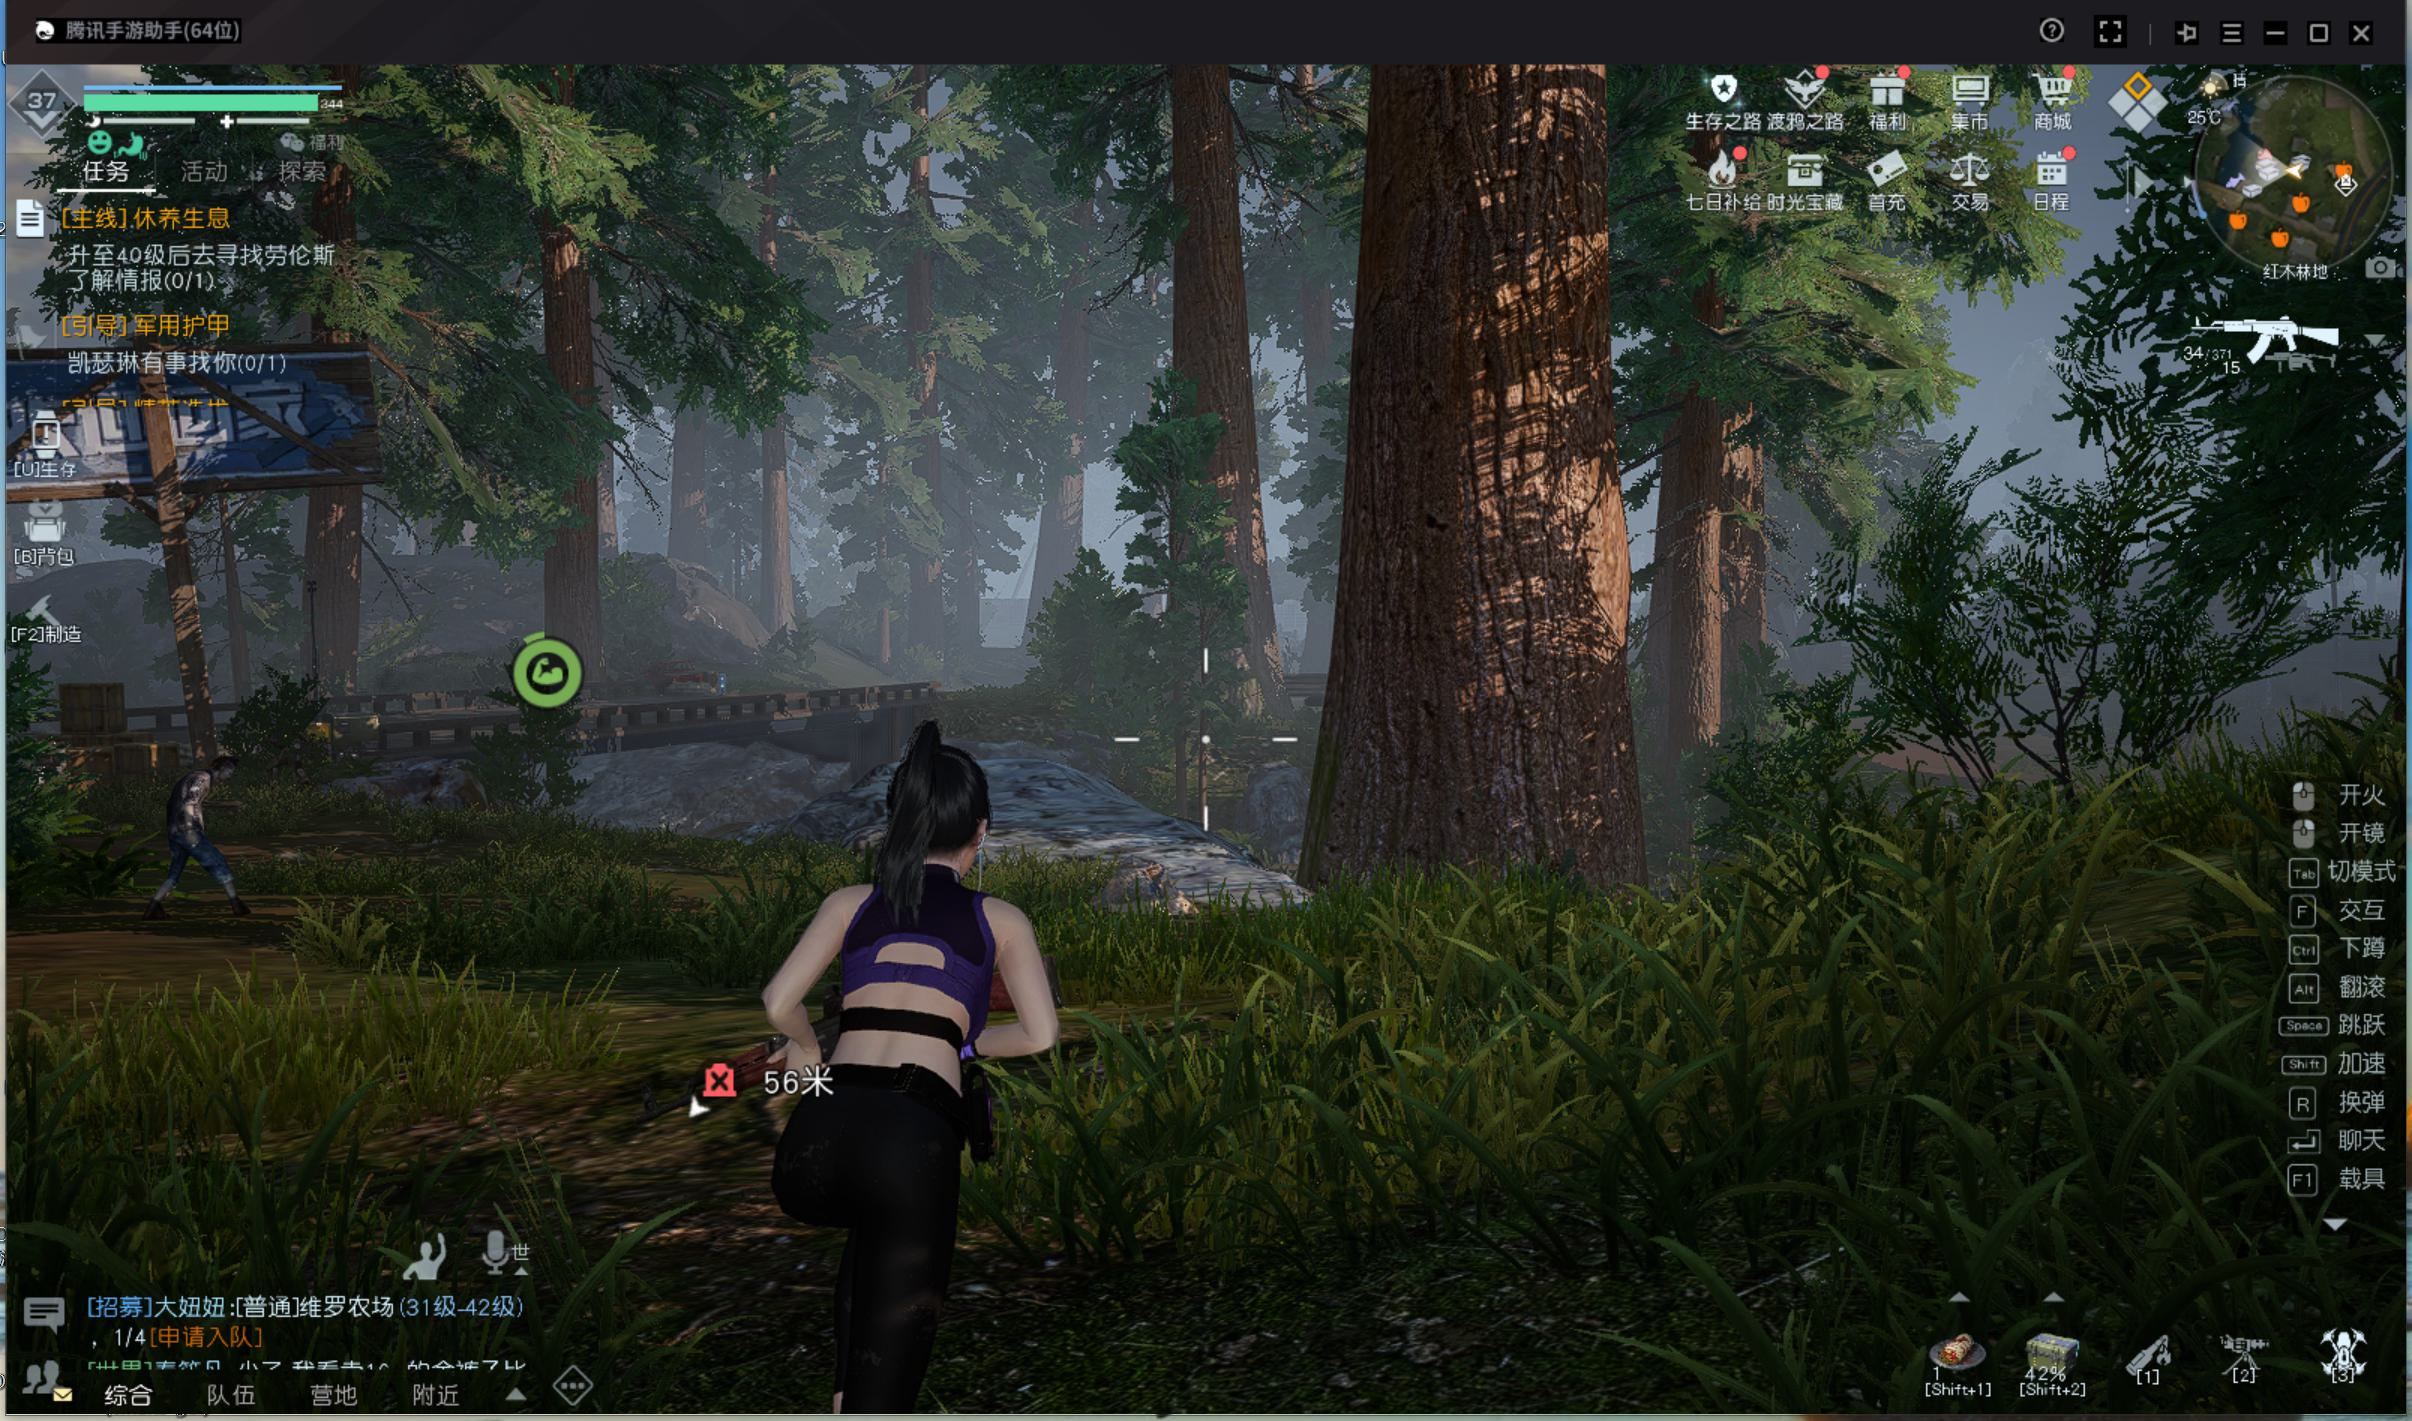stone: (1093, 836, 1209, 934)
tree: (1324, 181, 1636, 951), (1663, 311, 1776, 915), (1160, 255, 1282, 810), (524, 294, 621, 761), (753, 428, 810, 678)
